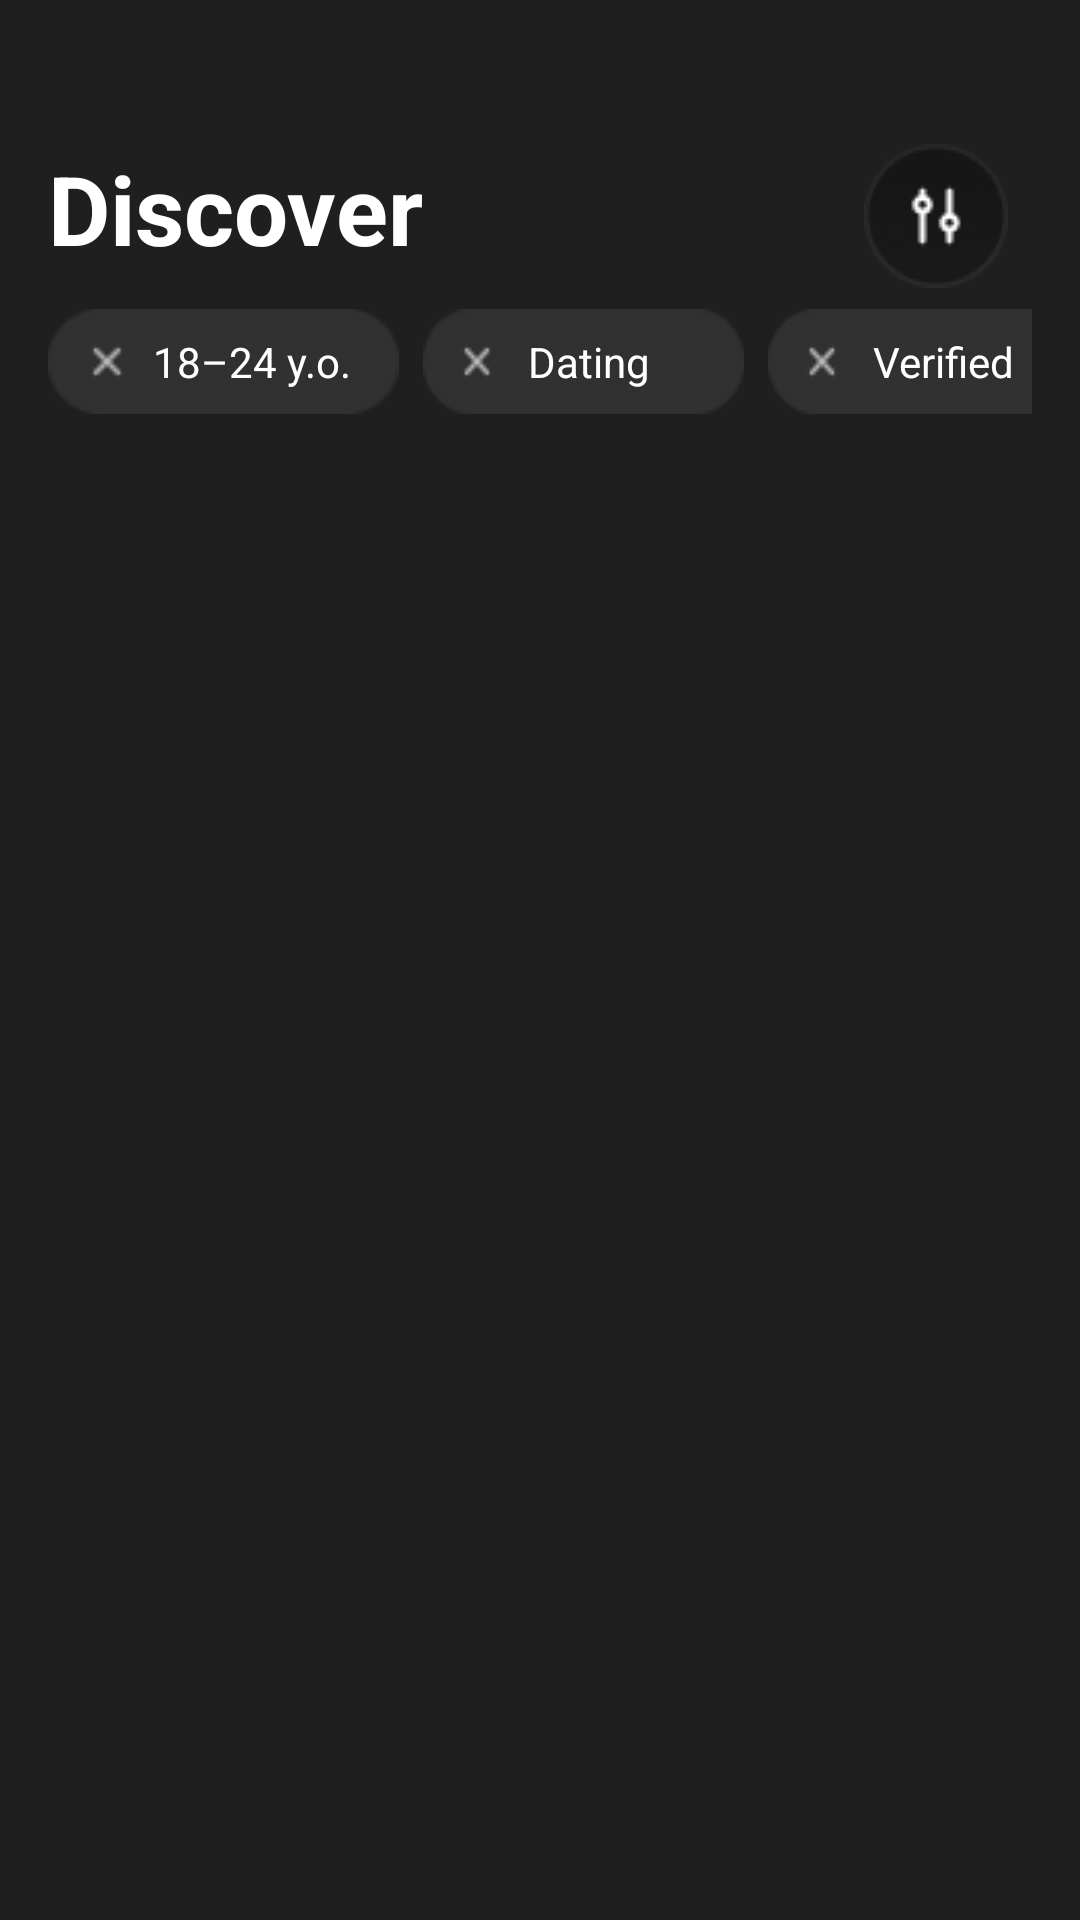

Icons on this 1080 x 1920 Android screen, each with the point to tap as point (x, y):
filter section: point (936, 216)
